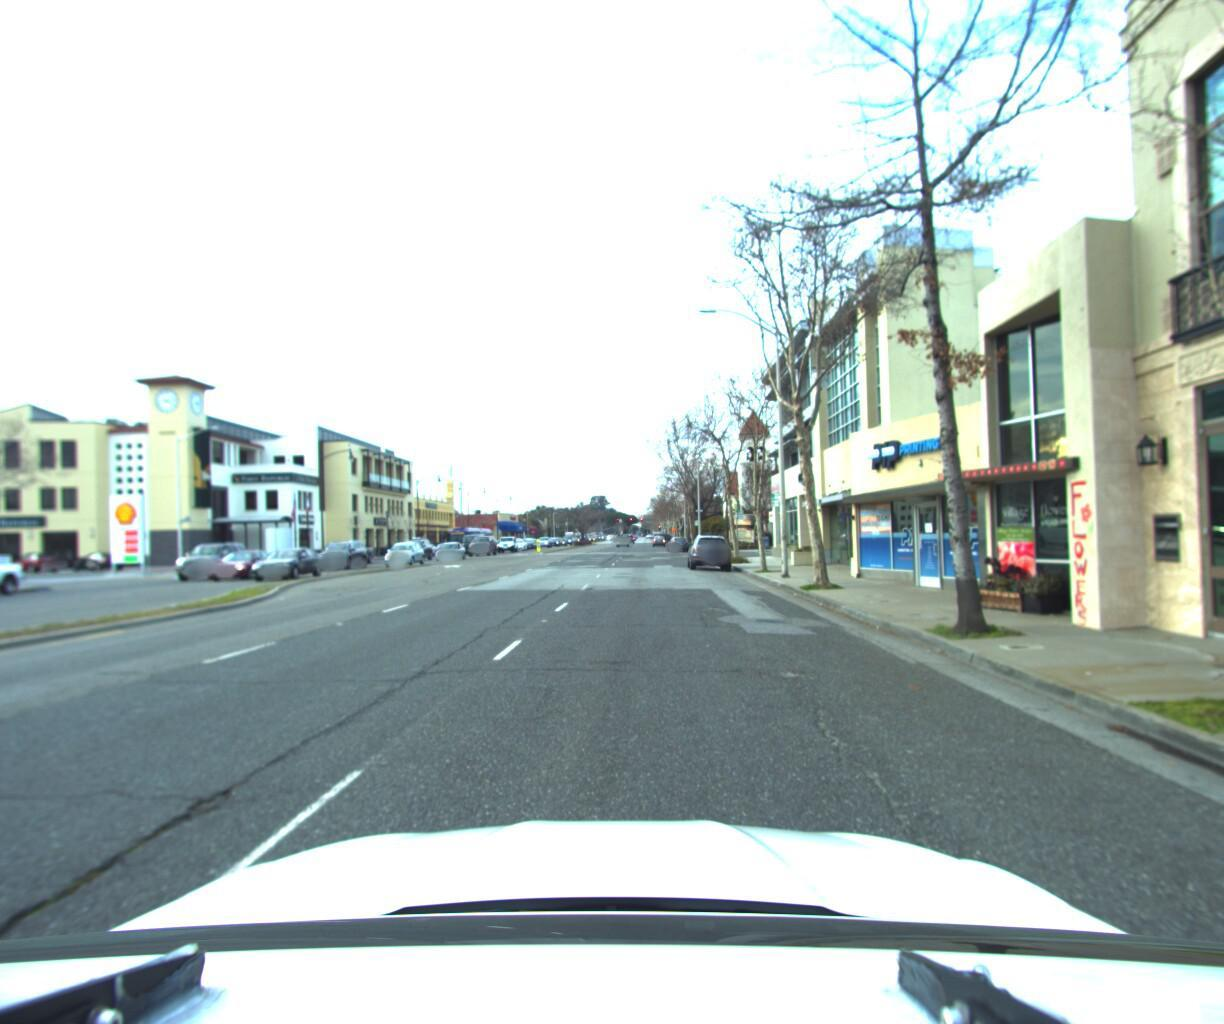car: (173, 540, 254, 580), (250, 547, 329, 581), (208, 549, 286, 582), (687, 531, 735, 573), (0, 552, 34, 609), (315, 540, 371, 571), (72, 550, 132, 574), (12, 552, 67, 575), (383, 540, 426, 565), (0, 544, 17, 590), (466, 534, 496, 556), (435, 539, 469, 559), (666, 533, 691, 551)
